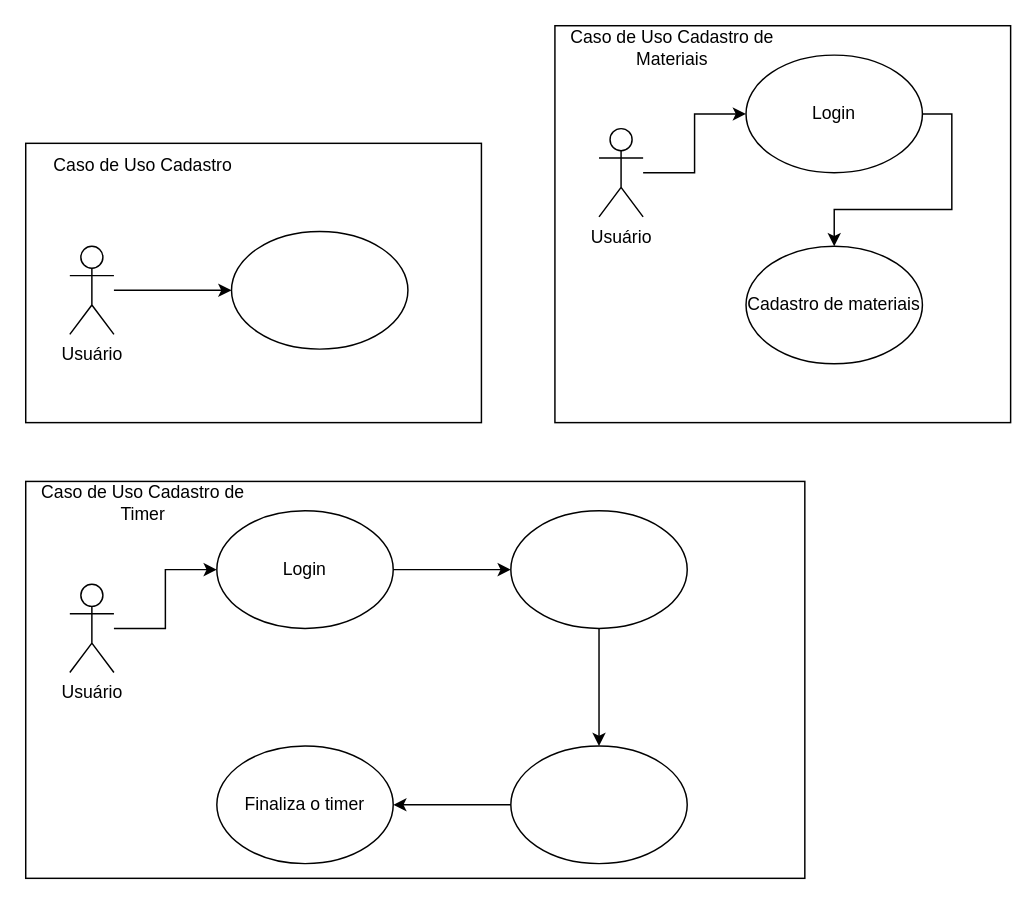
The diagram is 1036 pixels wide and 904 high, and some of its shapes have lost their labels. The shapes that lost their labels are listed below. From the top down, each one's box as (x1, y1, x2, y2) in pixels, then its label:
(230, 230, 408, 349): Cadastro
(509, 509, 687, 628): Seleciona materiais e valor hora
(509, 745, 687, 864): Inicia o timer
